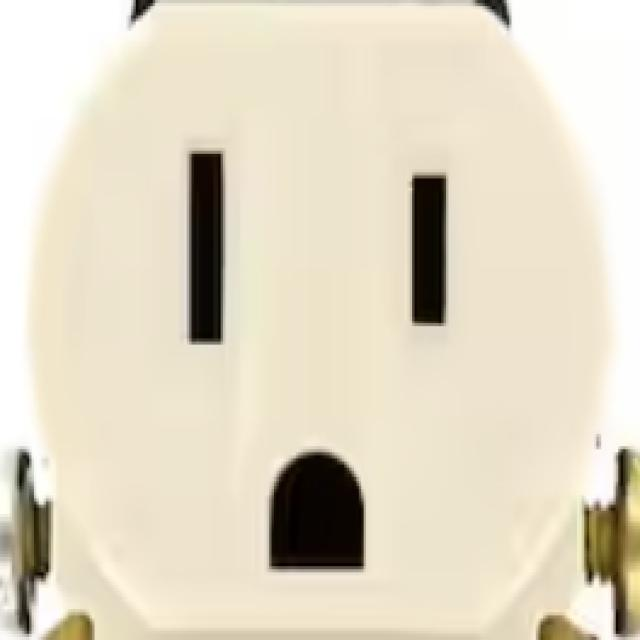type_b: (39, 22, 604, 626)
